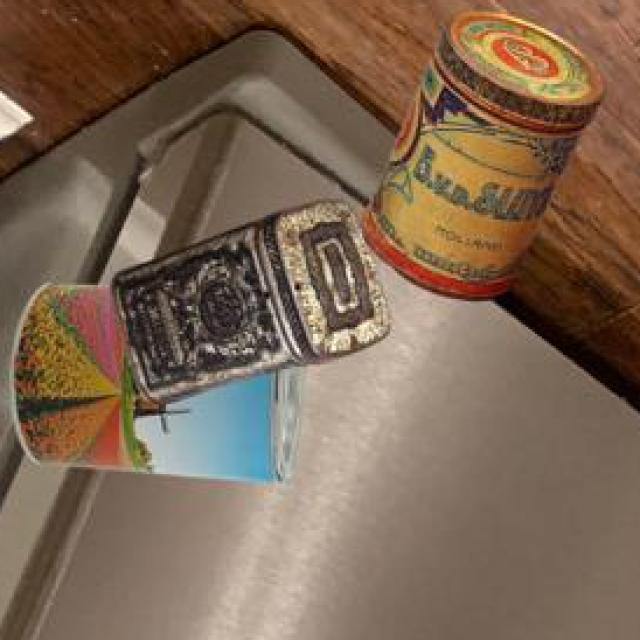logam: (366, 15, 608, 305), (15, 286, 306, 489), (113, 204, 391, 408)
